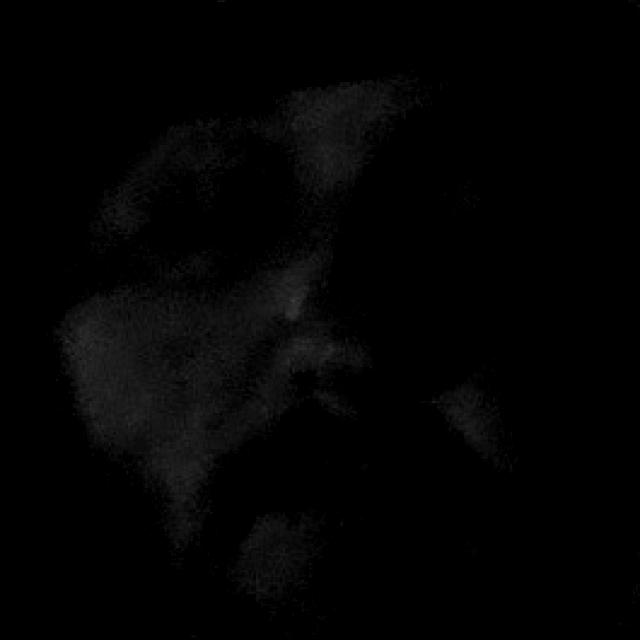real: (88, 22, 585, 604), (145, 126, 585, 280)
